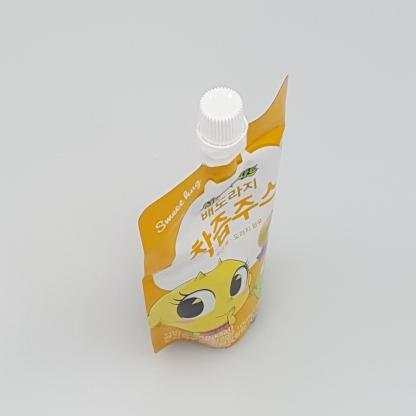-------------------100ML: (138, 75, 290, 353)
